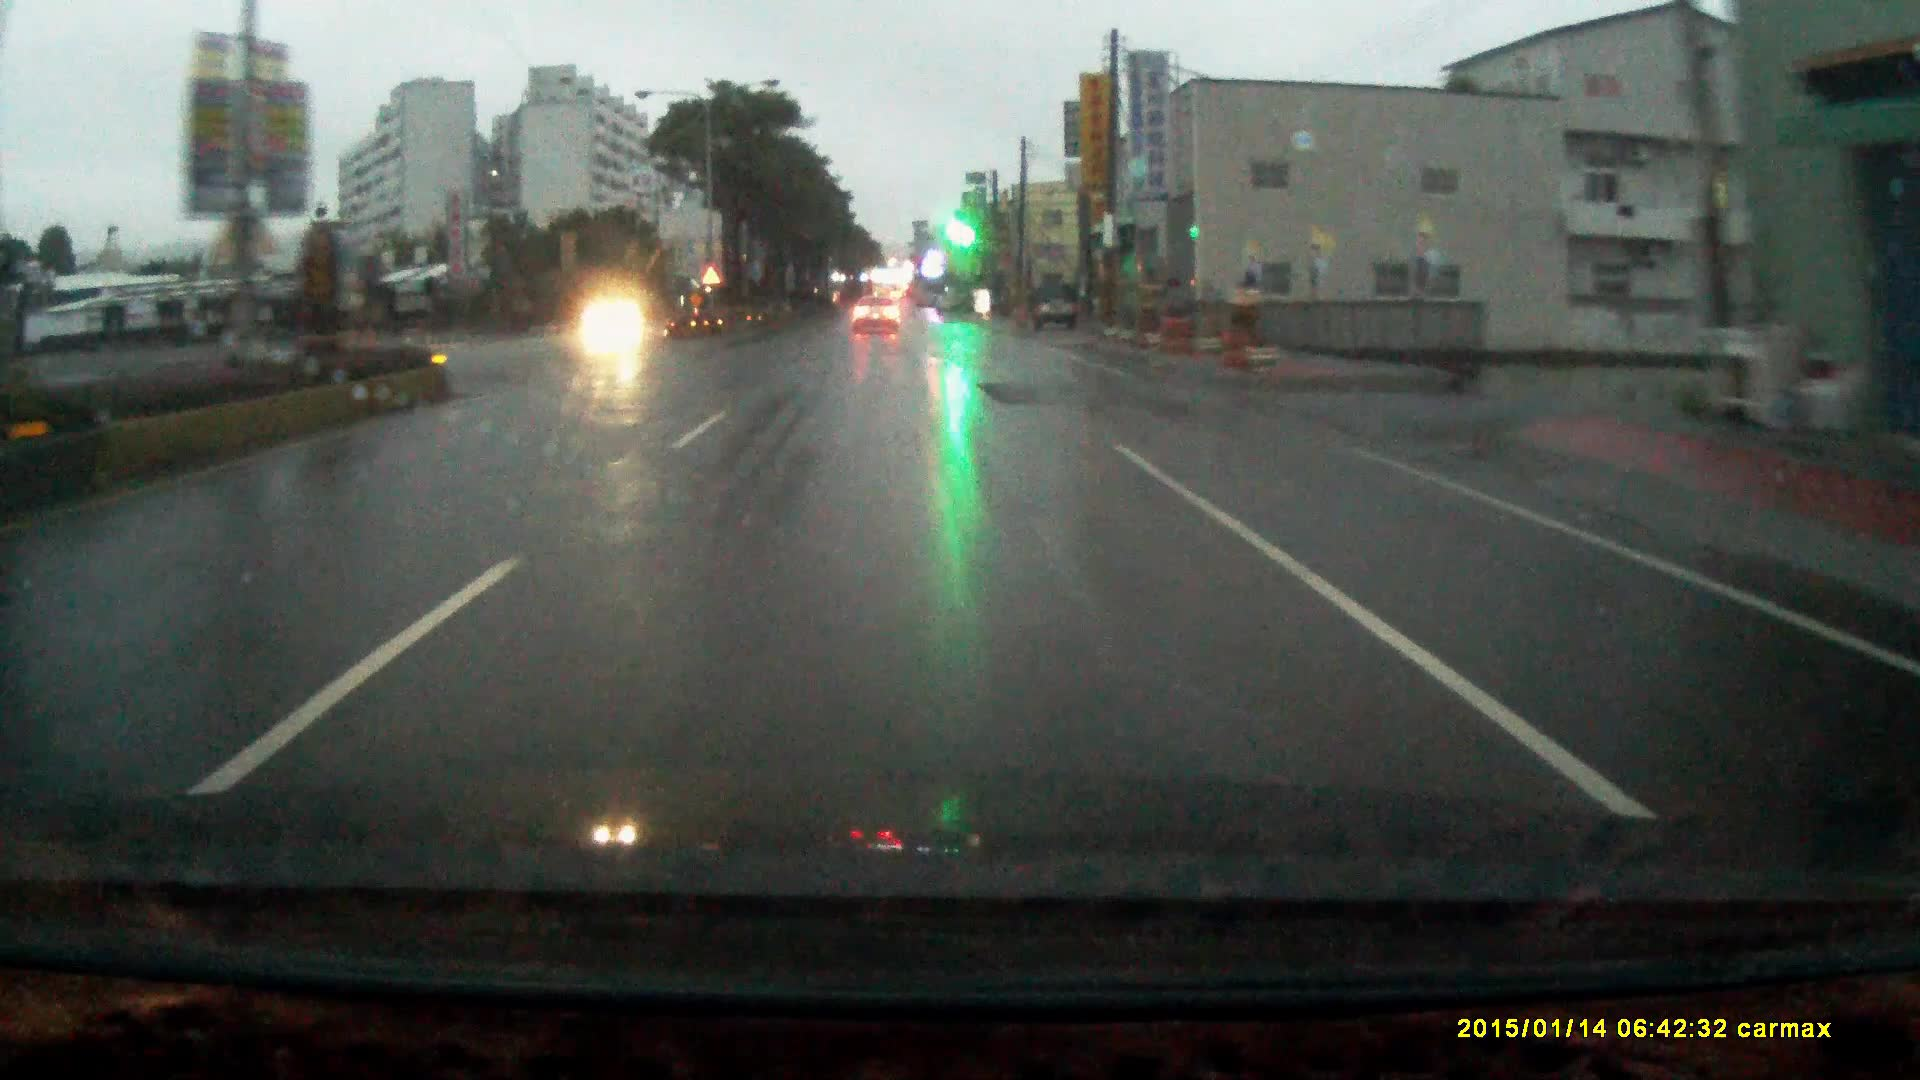vehicle: (1034, 287, 1079, 338), (848, 299, 899, 336)
